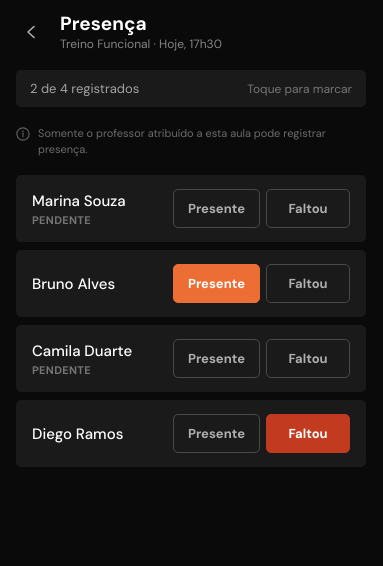
Test: Presença (professor) › se a correção falha, a linha volta à marcação anterior e a tela avisa
Expected: the text "2 de 4 registrados" is shown, top-left (30, 80), bottom-right (139, 97)
Click the button "Faltou" in the row of "Bruno Alves" at x=308, y=284, box top-left (266, 264), bottom-right (350, 303)
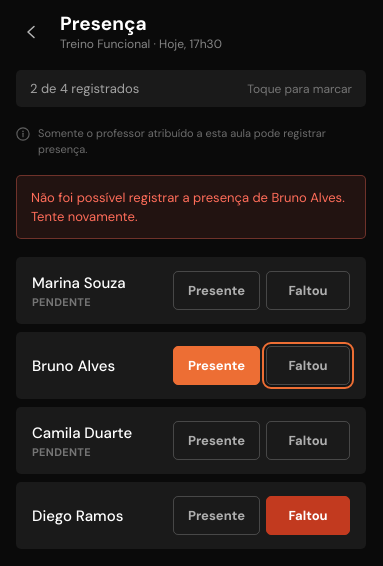
Expected: the message reads "Não foi possível registrar a presença de Bruno Alves. Tente novamente.", top-left (31, 189), bottom-right (345, 225)
